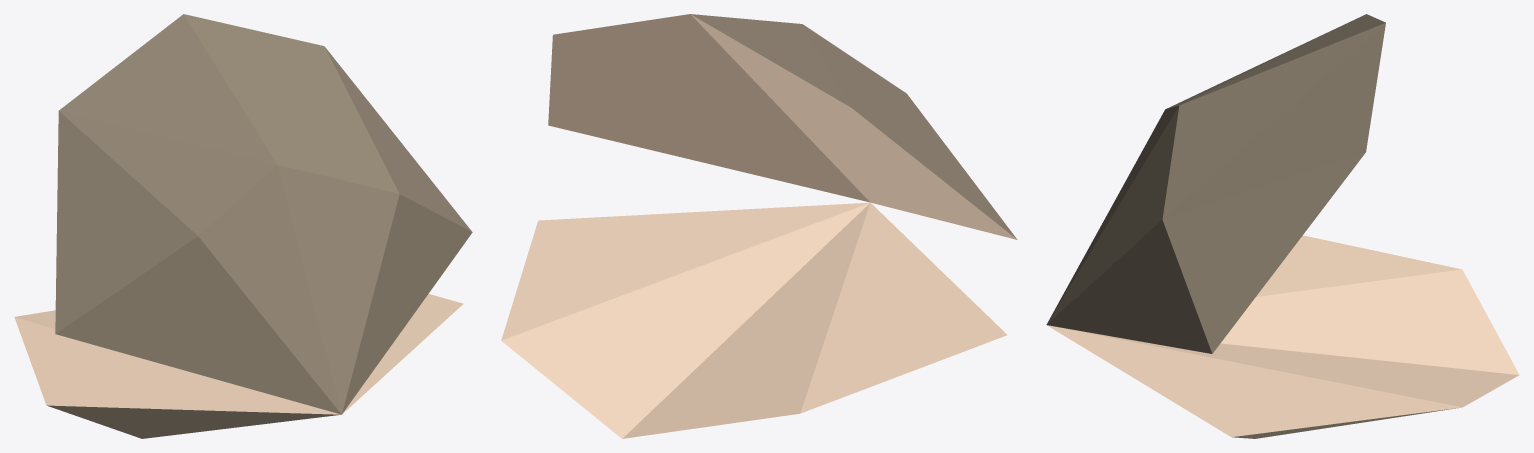
The model's file is clam.obj.
The picture shows the model from 3 angles, left to right: view 1: azimuth 30°, elevation 25°; view 2: azimuth 150°, elevation 25°; view 3: azimuth 270°, elevation 25°; orthographic projection. The views are drawn at different scales.
Parts seen in each view (by area): view 1: Clam; view 2: Clam; view 3: Clam.
Boxes of the visible parts, box(x1,y1,x2,y2) form: Clam: box(14, 14, 472, 438); Clam: box(501, 14, 1017, 438); Clam: box(1046, 14, 1519, 438).
Bounding box in the file's own units: 29.87 × 25.75 × 27.5.
Materials: 1 (1 with a texture image).
